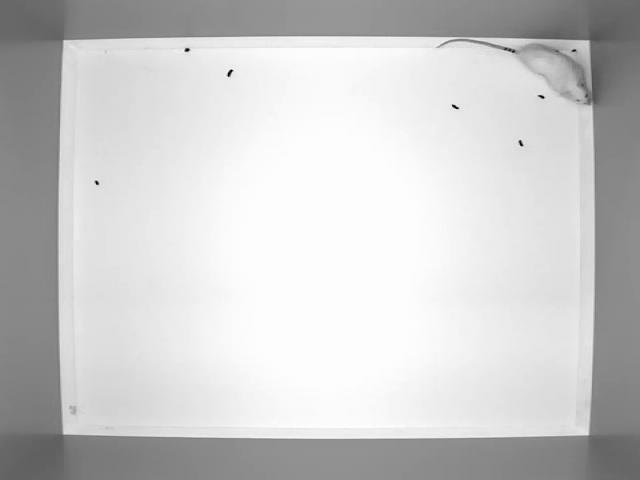Tikus: (436, 38, 593, 112)
